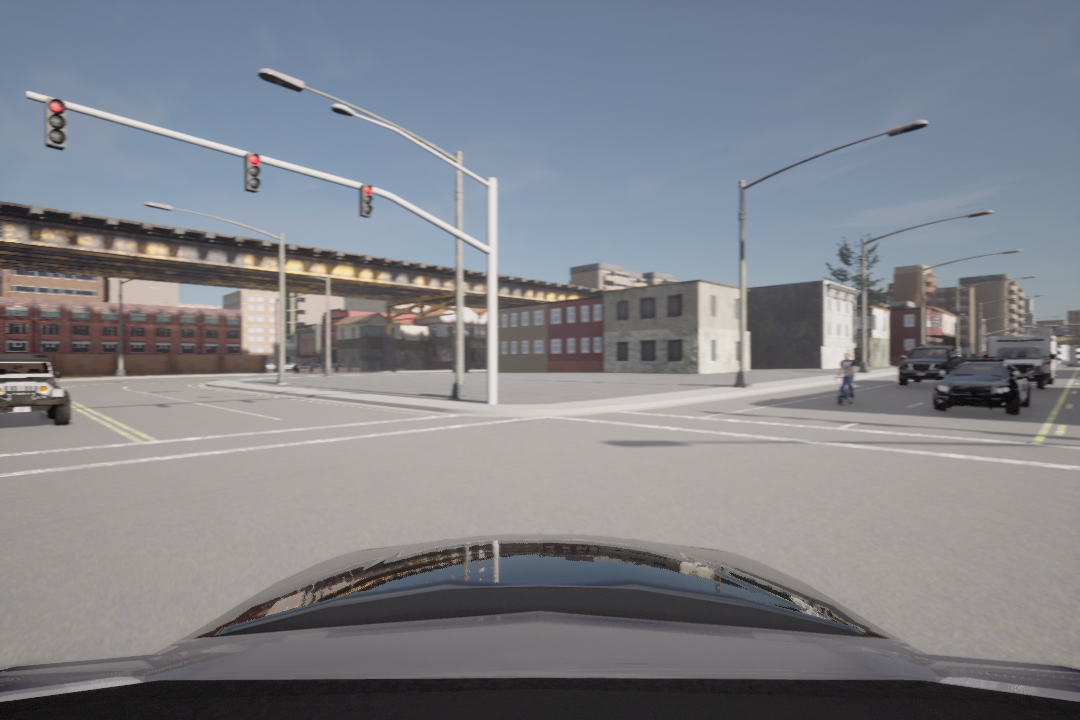TrafficLight: (44, 97, 72, 154), (246, 152, 264, 194), (356, 182, 374, 223)
